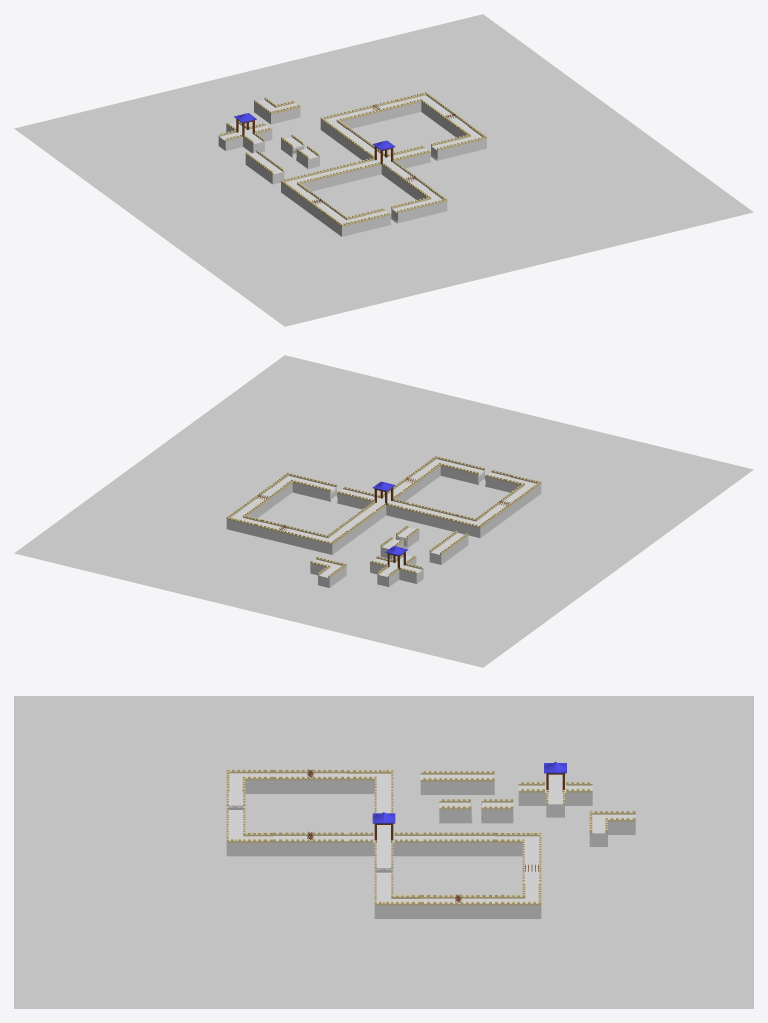
The model's file is Fort.glb.
3 renders of one model, top to bottom at view 1: azimuth 30°, elevation 25°; view 2: azimuth 150°, elevation 25°; view 3: azimuth 270°, elevation 25°, orthographic. The views are drawn at different scales.
Parts seen in each view (by area): view 1: Plane, WallIntersection.002, WallIntersection.001, WallStraightObstacle.001, WallStraight.002, WallTurnLeft.003, WallTurnRight.003, WallStraightBroken.001, WallStraightBroken.002, WallStraight.003, WallStraightBroken.003, WallTurnRight.002 (+8 smaller); view 2: Plane, WallIntersection.002, WallIntersection.001, WallStraightObstacle.001, WallStraight.002, WallTurnLeft.001, WallTurnLeft.004, WallStraightBroken.001, WallStraightBroken.002, WallTurnRight.003, WallStraight.003, WallTurnRight.001 (+8 smaller); view 3: Plane, WallIntersection.002, WallIntersection.001, WallStraightObstacle.003, WallStraight.001, WallStraight.003, WallStraightObstacle.002, WallStraightObstacle.004, WallStraightBroken.003, WallTurnRight.002, WallTurnRight.003, WallTurnRight.001 (+7 smaller).
Boxes of the visible parts, x1=… form: Plane: x1=14, y1=14, x2=753, y2=326; WallIntersection.002: x1=218, y1=113, x2=272, y2=153; WallIntersection.001: x1=357, y1=140, x2=410, y2=181; WallStraightObstacle.001: x1=350, y1=99, x2=403, y2=127; WallStraight.002: x1=311, y1=162, x2=363, y2=189; WallTurnLeft.003: x1=325, y1=209, x2=371, y2=236; WallTurnRight.003: x1=254, y1=97, x2=300, y2=124; WallStraightBroken.001: x1=404, y1=139, x2=457, y2=166; WallStraightBroken.002: x1=364, y1=201, x2=417, y2=229; WallStraight.003: x1=245, y1=149, x2=284, y2=184; WallStraightBroken.003: x1=281, y1=134, x2=319, y2=169; WallTurnRight.002: x1=411, y1=186, x2=447, y2=218; Plane: x1=14, y1=355, x2=753, y2=667; WallIntersection.002: x1=370, y1=546, x2=423, y2=586; WallIntersection.001: x1=357, y1=481, x2=410, y2=522; WallStraightObstacle.001: x1=256, y1=519, x2=308, y2=547; WallStraight.002: x1=404, y1=503, x2=456, y2=530; WallTurnLeft.001: x1=303, y1=527, x2=349, y2=554; WallTurnLeft.004: x1=451, y1=511, x2=497, y2=537; WallStraightBroken.001: x1=310, y1=480, x2=363, y2=507; WallStraightBroken.002: x1=458, y1=463, x2=511, y2=491; WallTurnRight.003: x1=310, y1=556, x2=346, y2=587; WallStraight.003: x1=429, y1=531, x2=468, y2=564; WallTurnRight.001: x1=226, y1=504, x2=262, y2=536; Plane: x1=14, y1=696, x2=753, y2=1008; WallIntersection.002: x1=518, y1=761, x2=592, y2=817; WallIntersection.001: x1=347, y1=812, x2=420, y2=856; WallStraightObstacle.003: x1=273, y1=831, x2=346, y2=856; WallStraight.001: x1=421, y1=832, x2=494, y2=856; WallStraight.003: x1=420, y1=770, x2=494, y2=794; WallStraightObstacle.002: x1=421, y1=894, x2=494, y2=918; WallStraightObstacle.004: x1=273, y1=769, x2=346, y2=793; WallStraightBroken.003: x1=439, y1=798, x2=513, y2=823; WallTurnRight.002: x1=226, y1=820, x2=272, y2=856; WallTurnRight.003: x1=589, y1=810, x2=635, y2=846; WallTurnRight.001: x1=495, y1=882, x2=541, y2=918.
Size of the model in its own units: 200 by 12.06 by 200.
